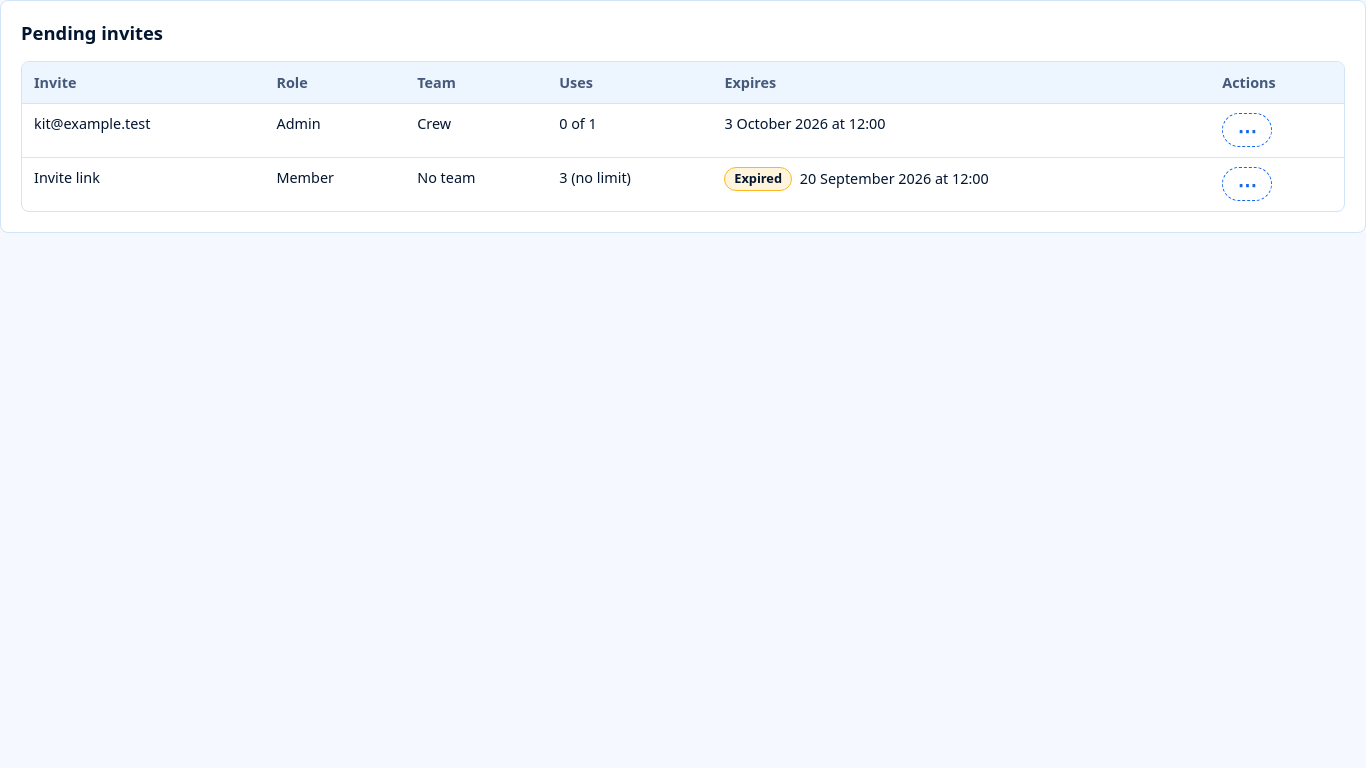
it: InviteList revoking an invite › keeps the invite when the viewer changes their mind
The image size is (1366, 768).
Click the button named "Actions for ": coordinates (1247, 130) [1222,113,1272,147]
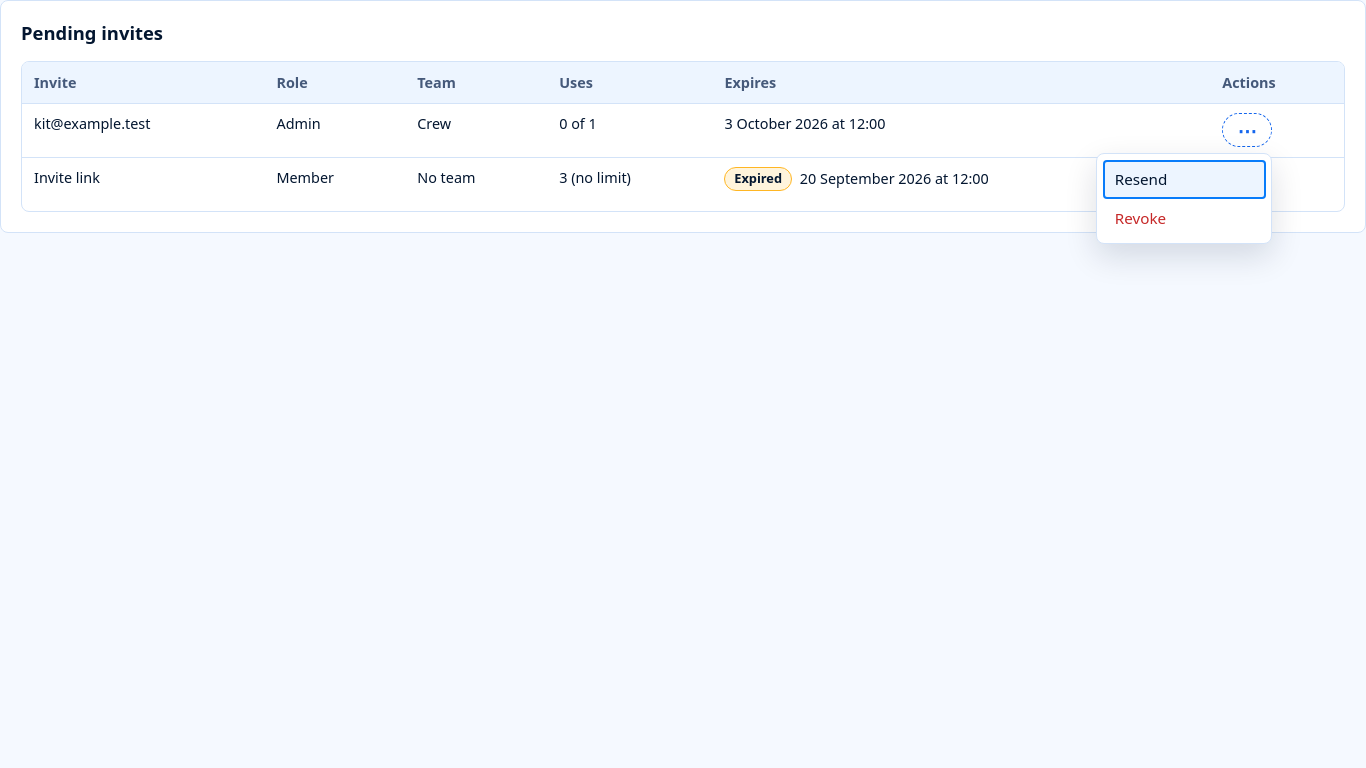
Click the menu item "Revoke": coordinates (1184, 218) [1103,199,1266,238]
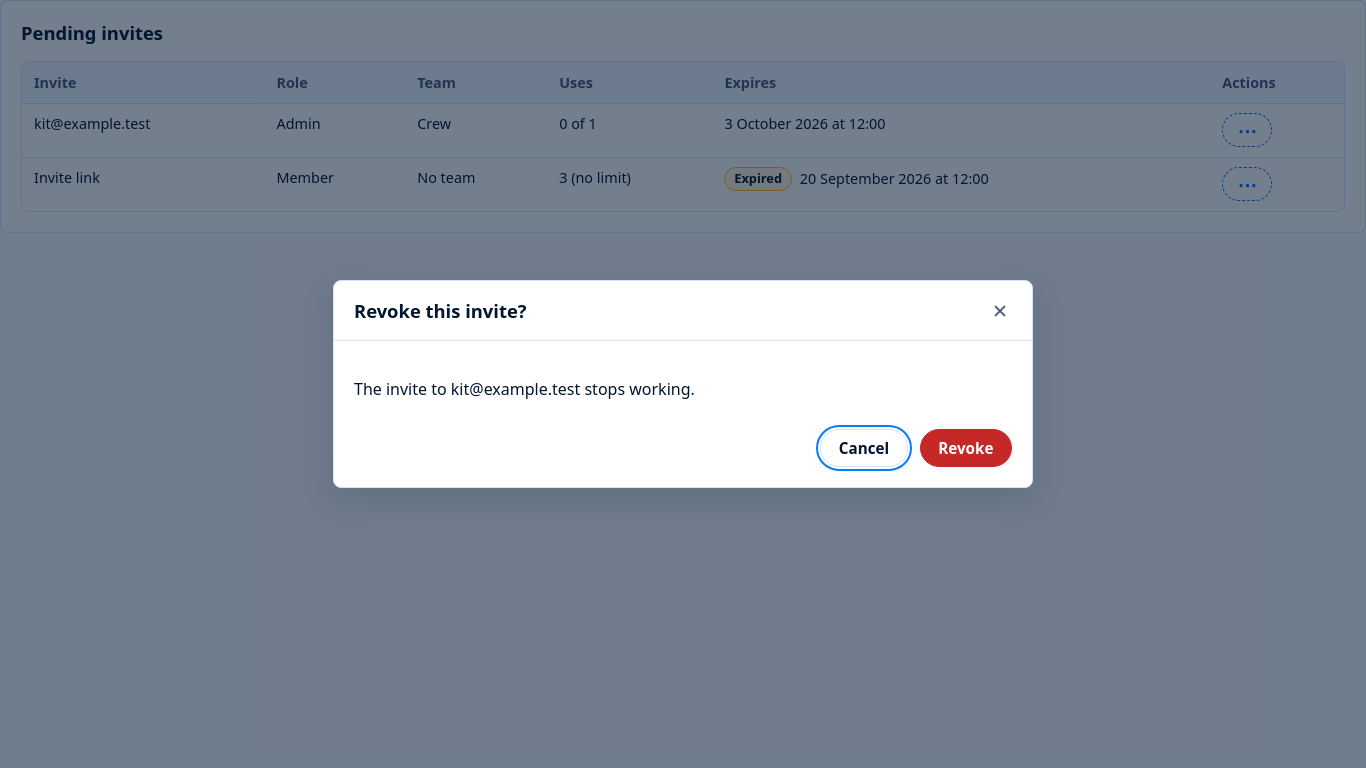
Click the button "Cancel": coordinates (864, 448) [820,429,908,467]
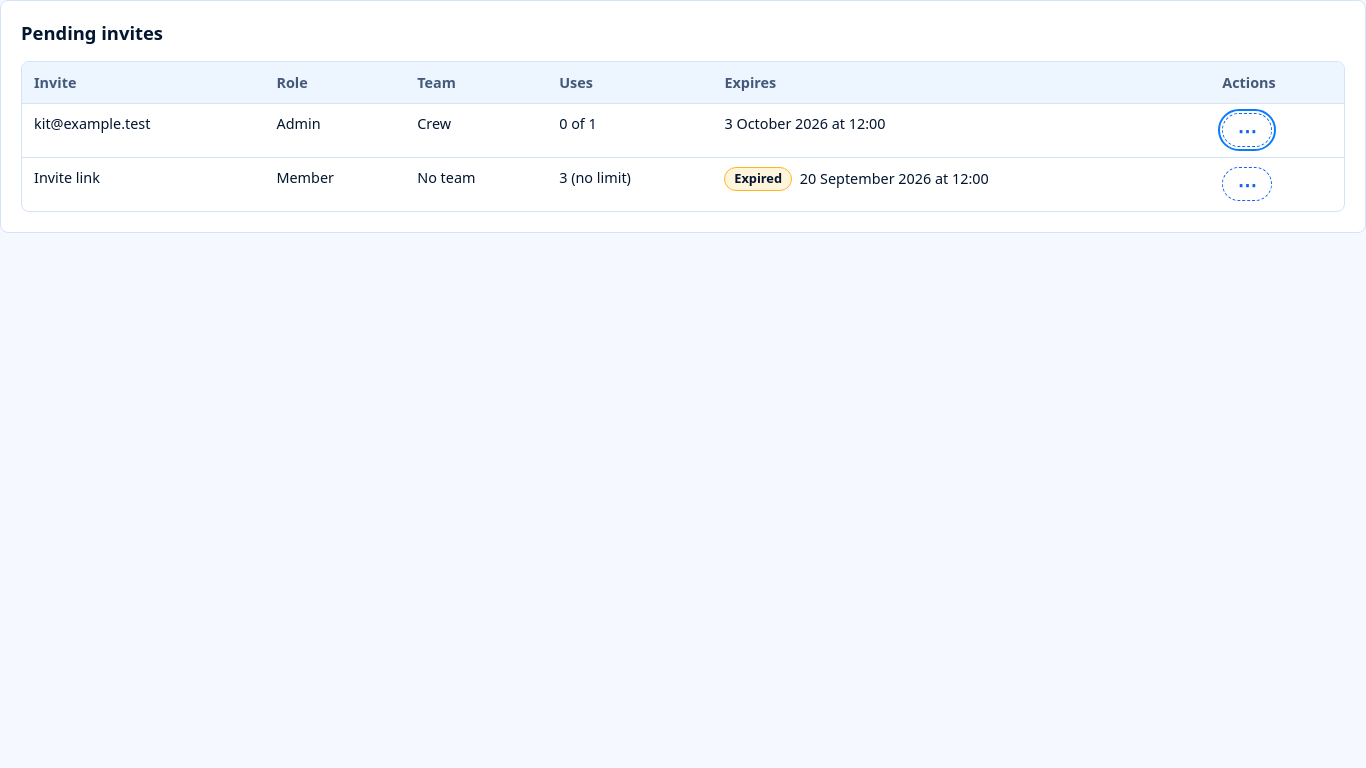
Result: the dialog is gone
